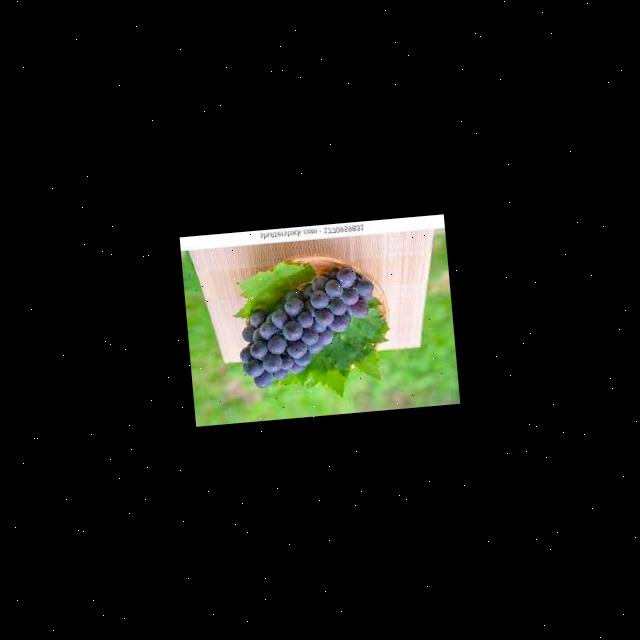grape: (232, 264, 382, 391)
